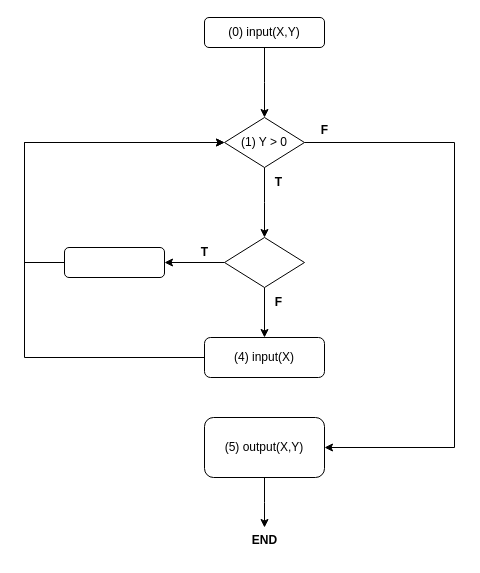
Some shapes in this 480 by 573 pixel diagram are drawn without their labels. Here are the shapes that lost their labels. From the top down, the box of each, then its label:
(64, 246, 164, 278): (3) Y = Y - X
(224, 236, 304, 288): (2) X > 0
